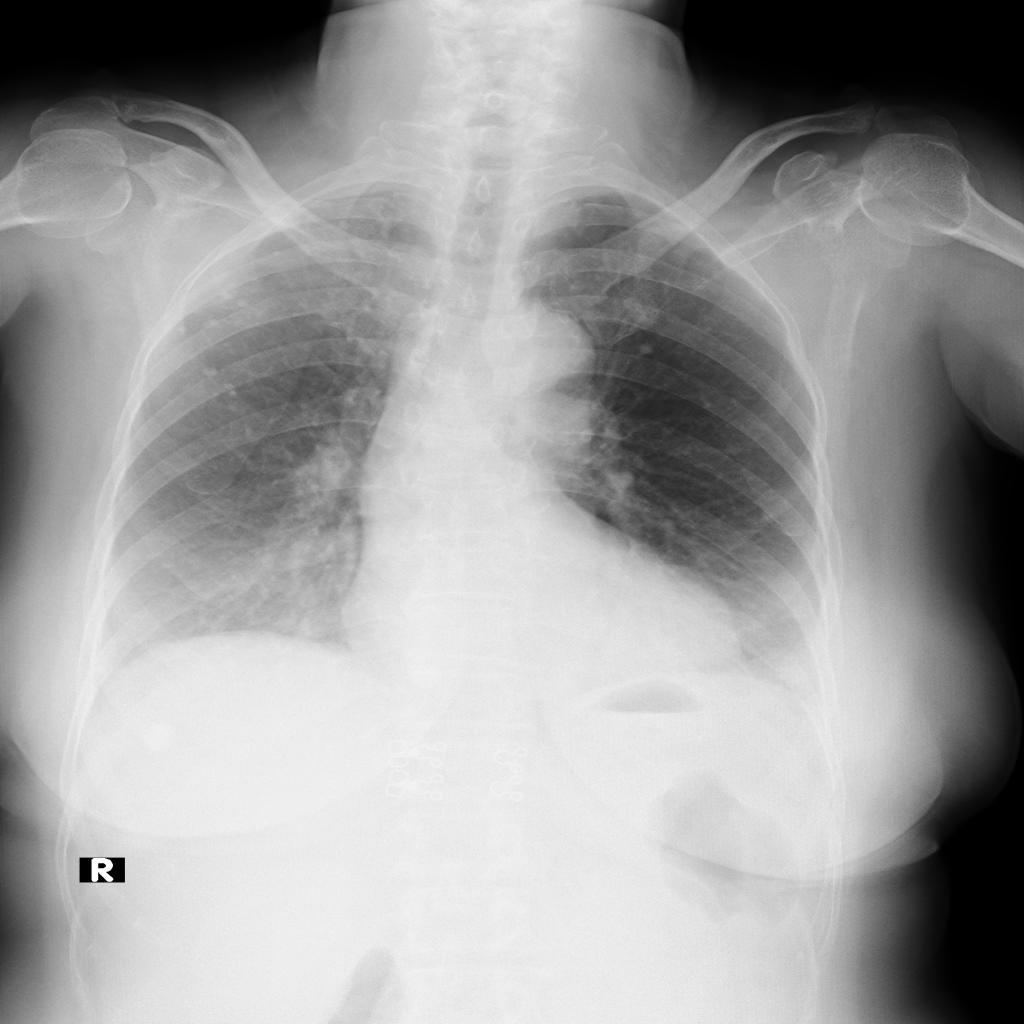Nodule: (168, 277, 264, 403), (220, 292, 250, 310), (224, 385, 245, 398), (200, 364, 219, 378), (209, 316, 220, 329), (176, 324, 187, 335)
